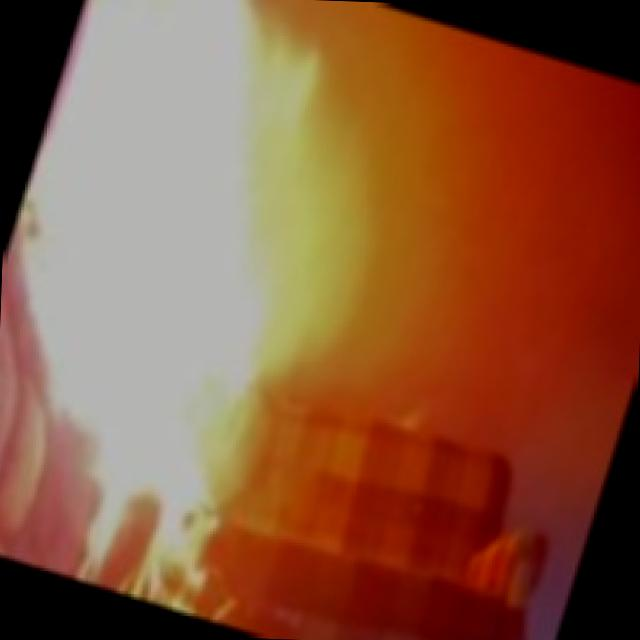fire: (0, 0, 422, 571)
